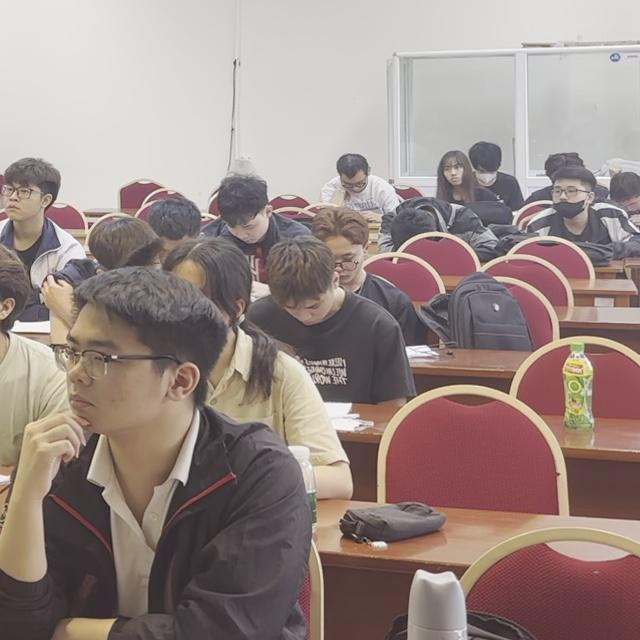Looking away: (62, 298, 159, 437), (284, 277, 334, 327), (225, 210, 271, 245), (342, 164, 369, 194), (478, 159, 498, 183)
Looking forward: (2, 180, 42, 218), (553, 176, 588, 208), (442, 158, 467, 185)
